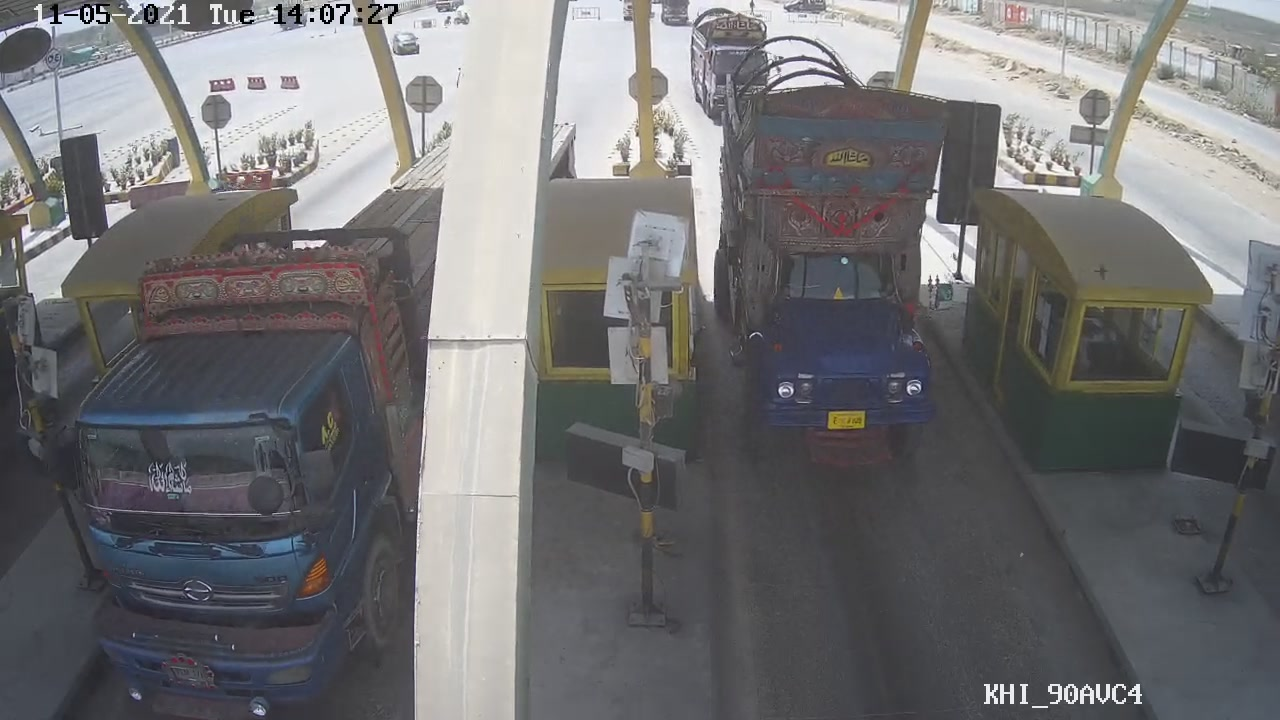F5: (709, 30, 964, 483)
